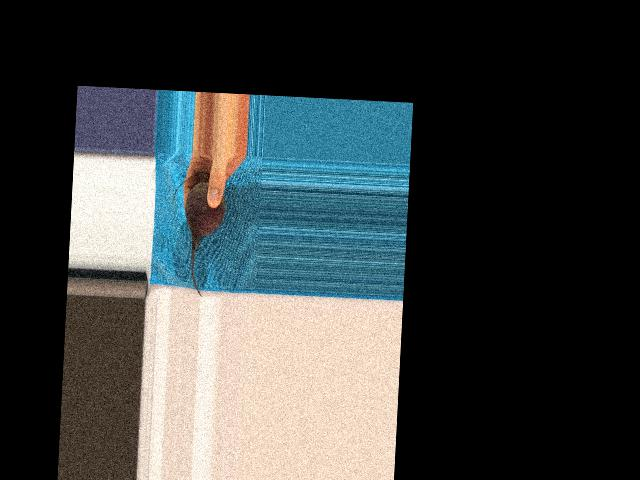beet: (168, 170, 227, 298)
